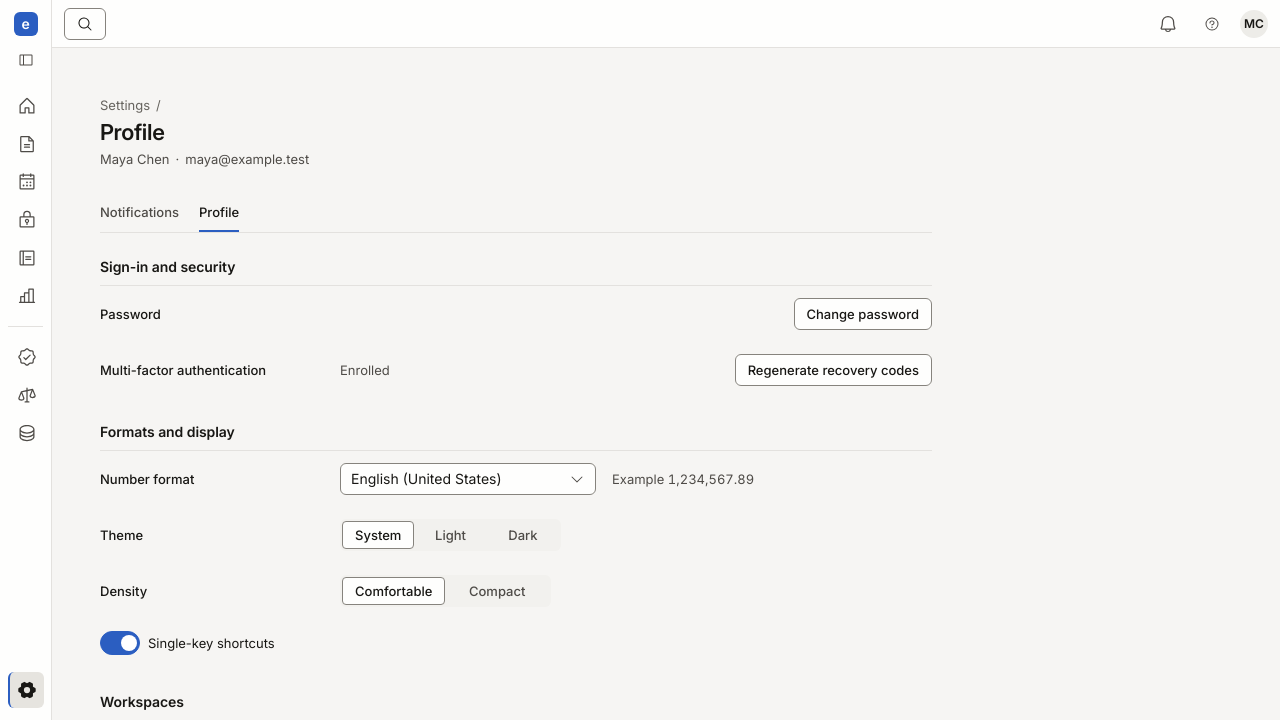
it: SF-15:profile and REQ-UX-022 › Number format German (Germany) sends PATCH /me/preferences {format_locale: de-DE}; the example updates to 1.234.567,89
The width and height of the screenshot is (1280, 720).
Expected: the heading "Profile" is shown, [100,119,164,145]
Expected: the text "Maya Chen" is shown, [100,150,170,168]
Click the dropdown named "Number format" at (468, 479), box [340,463,596,495]
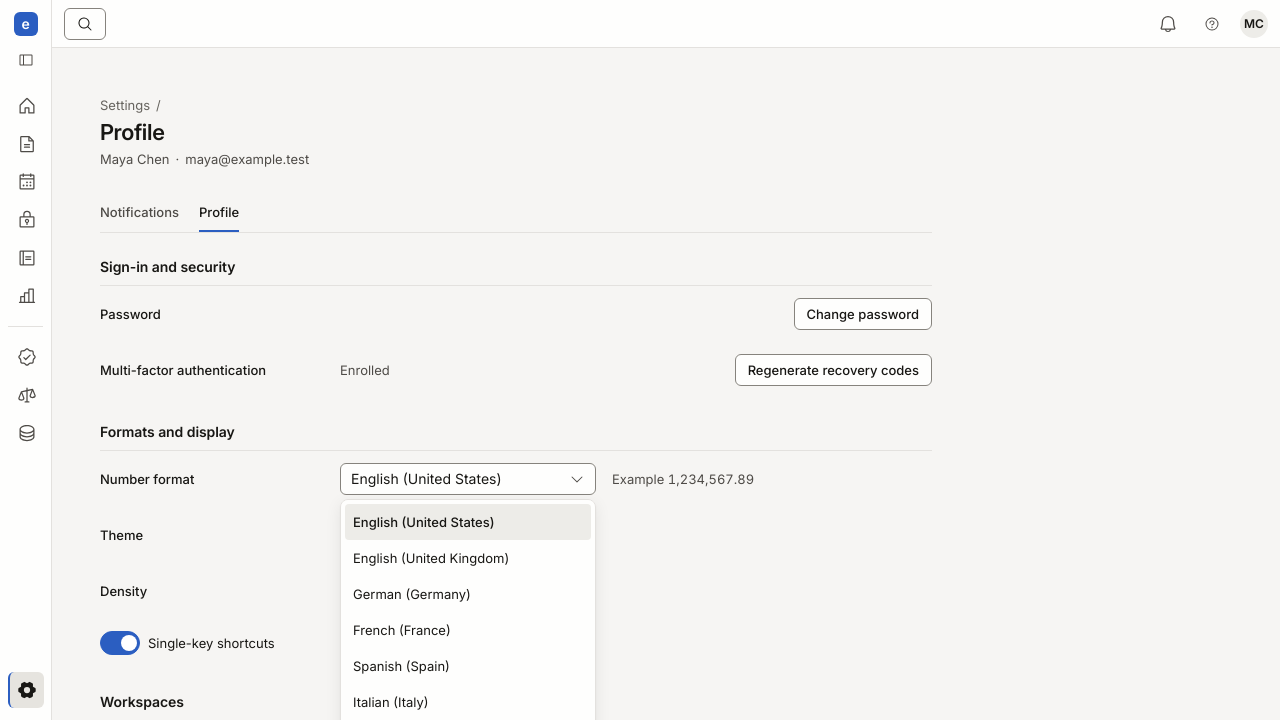
Press the mouse on the option "German (Germany)" at (412, 594), box [353,586,471,602]
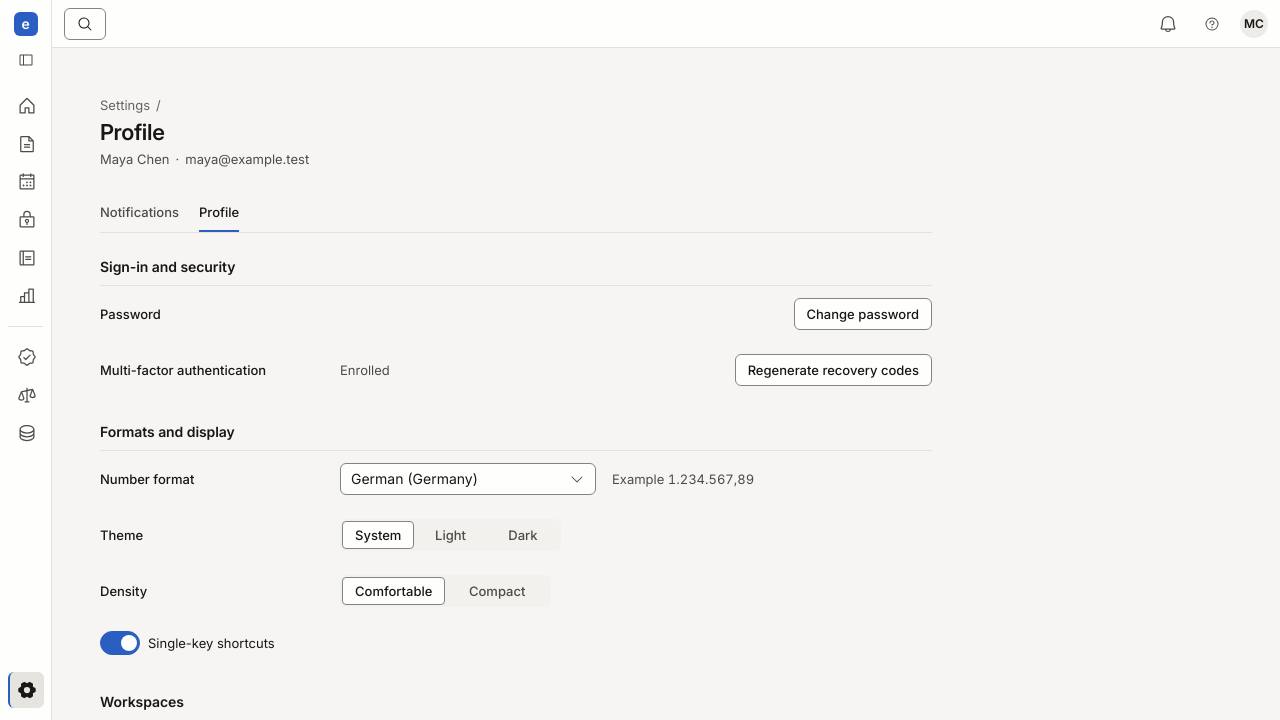
Now the text "Example 1.234.567,89" is shown, box [612,470,754,488]
Now the dropdown named "Number format" reads "German (Germany)", box [340,463,596,495]
